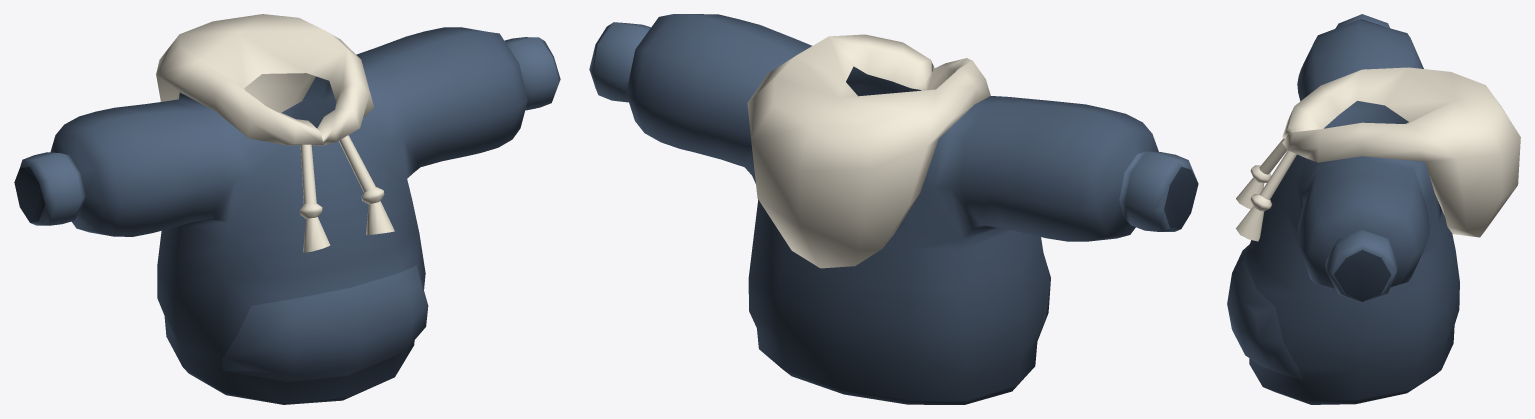
The model's file is Top_26.fbx.
The picture shows the model from 3 angles, left to right: view 1: azimuth 30°, elevation 25°; view 2: azimuth 150°, elevation 25°; view 3: azimuth 270°, elevation 25°; orthographic projection. The views are drawn at different scales.
Parts seen in each view (by area): view 1: Top_26; view 2: Top_26; view 3: Top_26.
Part boxes in pixels (x1=…): Top_26: x1=14, y1=14, x2=560, y2=404; Top_26: x1=589, y1=14, x2=1198, y2=404; Top_26: x1=1227, y1=14, x2=1520, y2=404.
Bounding box in the file's own units: 95.72 × 52.6 × 50.88.
